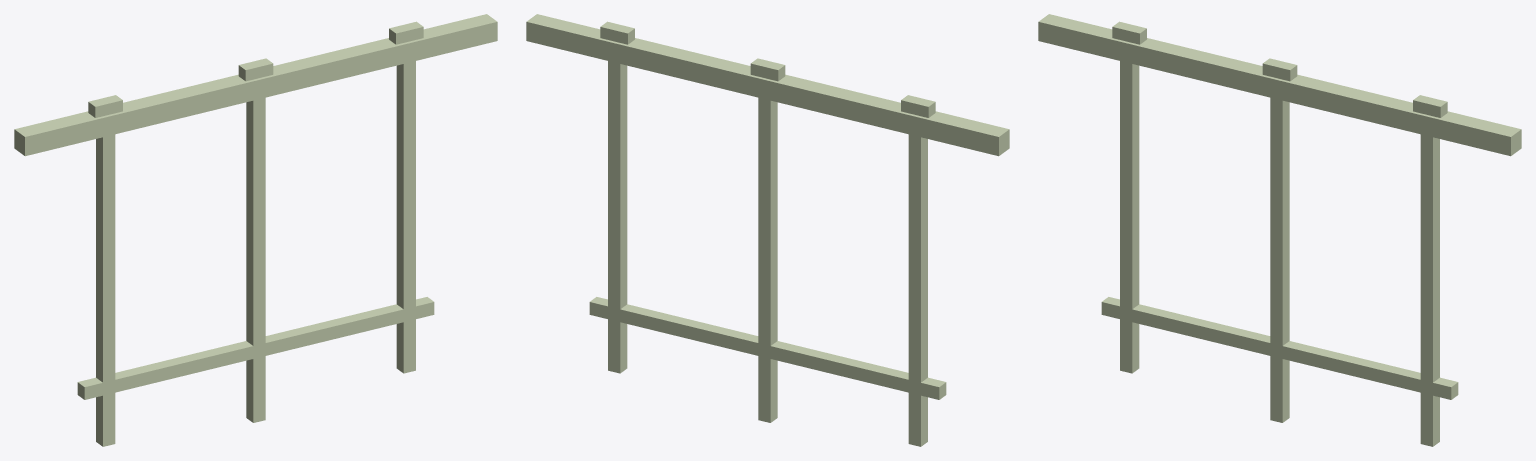
File: furniture_signal_cantilever_dropper_triple.glb
The picture shows the model from 3 angles, left to right: view 1: azimuth 30°, elevation 25°; view 2: azimuth 150°, elevation 25°; view 3: azimuth 330°, elevation 25°; orthographic projection.
Visible parts, largest first — view 1: hanger_beam, cross_tie, dropper_center, dropper_left, dropper_right, clamp_center, clamp_left, clamp_right; view 2: hanger_beam, cross_tie, dropper_center, dropper_right, dropper_left, clamp_center, clamp_left, clamp_right; view 3: hanger_beam, cross_tie, dropper_center, dropper_left, dropper_right, clamp_center, clamp_right, clamp_left.
Boxes of the visible parts, x1,y1,x2,y2 form: hanger_beam: [14, 14, 497, 156]; cross_tie: [77, 297, 434, 399]; dropper_center: [246, 97, 265, 422]; dropper_left: [96, 134, 115, 446]; dropper_right: [396, 61, 415, 373]; clamp_center: [238, 58, 273, 81]; clamp_left: [88, 95, 122, 117]; clamp_right: [389, 21, 423, 44]; hanger_beam: [526, 14, 1009, 156]; cross_tie: [589, 297, 946, 399]; dropper_center: [758, 97, 777, 422]; dropper_right: [608, 61, 627, 373]; dropper_left: [908, 134, 927, 446]; clamp_center: [750, 58, 785, 81]; clamp_left: [901, 95, 935, 117]; clamp_right: [600, 21, 634, 44]; hanger_beam: [1038, 14, 1521, 156]; cross_tie: [1101, 297, 1458, 399]; dropper_center: [1270, 97, 1289, 422]; dropper_left: [1120, 61, 1139, 373]; dropper_right: [1420, 134, 1439, 446]; clamp_center: [1262, 58, 1297, 81]; clamp_right: [1413, 95, 1447, 117]; clamp_left: [1112, 21, 1146, 44].
Size of the model in its own units: 3.08 by 2.21 by 0.12.
